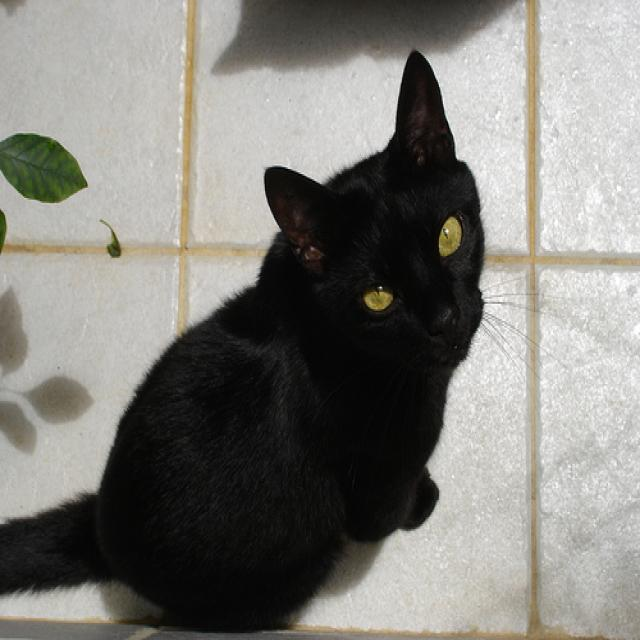left eye: (435, 210, 465, 258)
